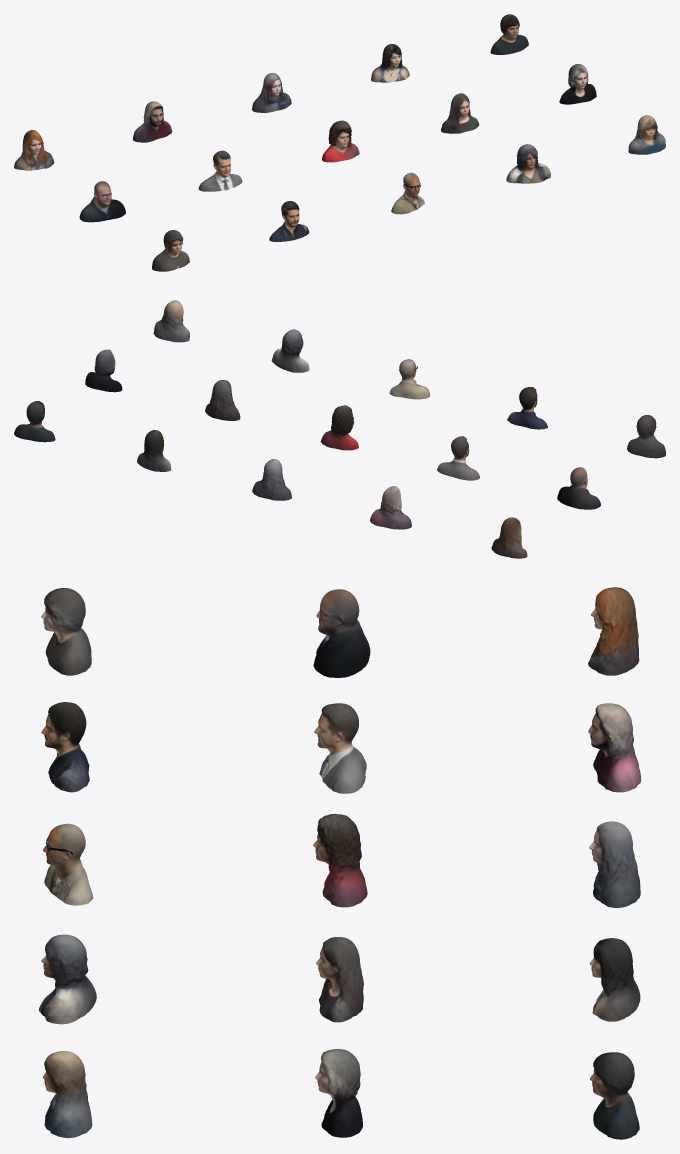
Rendered from allModels.gltf.
3 views of the same model, one above another, from view 1: azimuth 30°, elevation 25°; view 2: azimuth 150°, elevation 25°; view 3: azimuth 270°, elevation 25° (orthographic). The views are drawn at different scales.
Visible parts, largest first — view 1: HectorGutierrez, OscarLopez, BetoRamos, AnaGarza, NicoleLeon, AndreaBandinelli, MiguelAlayo, JorgeNavarro, Ness, KarlaVelazquez, LorenaNajera, MarthaMendoza (+3 smaller); view 2: AndreaBandinelli, BetoRamos, HectorGutierrez, MiguelAlayo, OscarLopez, JorgeNavarro, NicoleLeon, AnaGarza, LorenaNajera, KarlaVelazquez, Ness, AngelLeon (+3 smaller); view 3: HectorGutierrez, OscarLopez, BetoRamos, AnaGarza, AndreaBandinelli, JorgeNavarro, Ness, NicoleLeon, MiguelAlayo, AngelLeon, KarlaVelazquez, LorenaNajera (+3 smaller).
Boxes of the visible parts, bbox=[...] form: HectorGutierrez: bbox=[79, 181, 125, 222]; OscarLopez: bbox=[506, 144, 550, 183]; BetoRamos: bbox=[322, 120, 359, 162]; AnaGarza: bbox=[14, 130, 54, 170]; NicoleLeon: bbox=[628, 115, 665, 154]; AndreaBandinelli: bbox=[133, 101, 172, 142]; MiguelAlayo: bbox=[152, 230, 189, 271]; JorgeNavarro: bbox=[252, 73, 291, 112]; Ness: bbox=[198, 150, 242, 191]; KarlaVelazquez: bbox=[441, 93, 479, 133]; LorenaNajera: bbox=[559, 64, 596, 104]; MarthaMendoza: bbox=[371, 44, 409, 82]; AndreaBandinelli: bbox=[370, 486, 411, 529]; BetoRamos: bbox=[320, 405, 358, 450]; HectorGutierrez: bbox=[557, 467, 600, 509]; MiguelAlayo: bbox=[627, 415, 665, 458]; OscarLopez: bbox=[271, 329, 309, 372]; JorgeNavarro: bbox=[252, 459, 291, 500]; NicoleLeon: bbox=[153, 300, 189, 342]; AnaGarza: bbox=[491, 517, 527, 558]; LorenaNajera: bbox=[85, 349, 122, 392]; KarlaVelazquez: bbox=[205, 380, 240, 420]; Ness: bbox=[437, 436, 479, 480]; AngelLeon: bbox=[14, 401, 55, 442]; HectorGutierrez: bbox=[313, 589, 370, 677]; OscarLopez: bbox=[39, 934, 96, 1024]; BetoRamos: bbox=[313, 814, 367, 907]; AnaGarza: bbox=[588, 587, 639, 675]; AndreaBandinelli: bbox=[588, 703, 641, 792]; JorgeNavarro: bbox=[589, 821, 640, 907]; Ness: bbox=[314, 703, 366, 793]; NicoleLeon: bbox=[43, 1051, 92, 1138]; MiguelAlayo: bbox=[41, 588, 91, 675]; AngelLeon: bbox=[590, 1052, 639, 1139]; KarlaVelazquez: bbox=[316, 937, 363, 1022]; LorenaNajera: bbox=[315, 1049, 362, 1137].
Size of the model in its own units: 130 by 8.85 by 65.96.
Materials: 15 (15 with a texture image).
